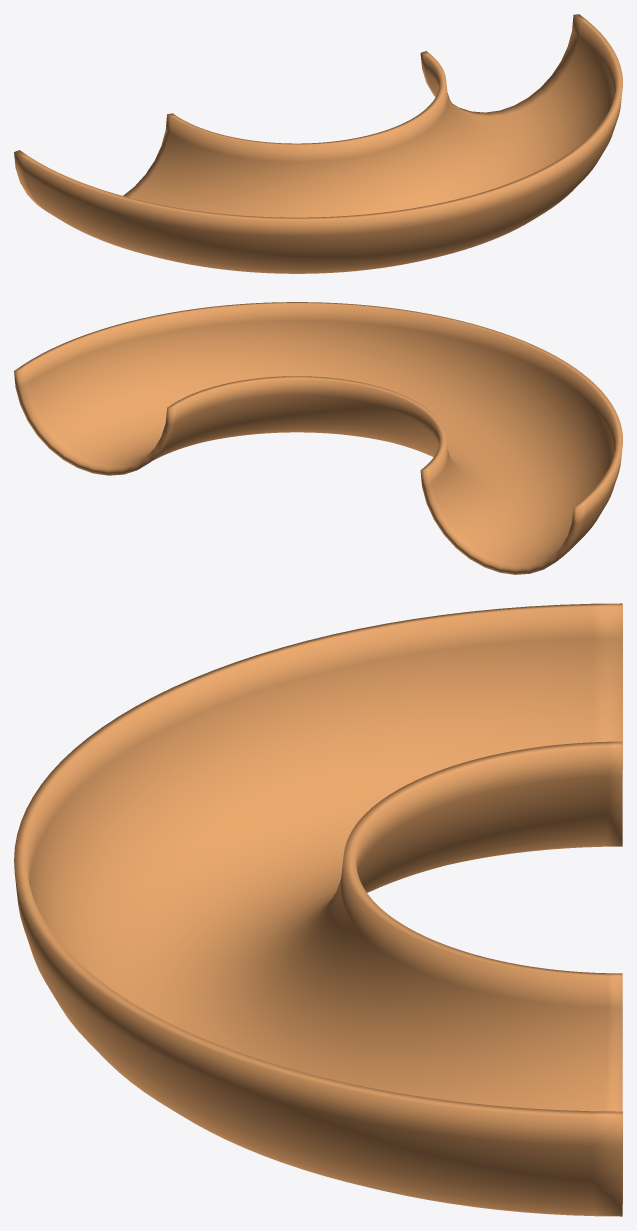
Rendered from WAY CURVE.fbx.
The picture shows the model from 3 angles, top to bottom: view 1: azimuth 30°, elevation 25°; view 2: azimuth 150°, elevation 25°; view 3: azimuth 270°, elevation 25°; orthographic projection. The views are drawn at different scales.
Visible parts, largest first — view 1: BezierCircle; view 2: BezierCircle; view 3: BezierCircle.
Boxes of the visible parts, box(x1,y1,x2,y2) form: BezierCircle: box(14, 14, 622, 273); BezierCircle: box(14, 302, 622, 574); BezierCircle: box(14, 603, 622, 1216).
Bounding box in the file's own units: 3360 × 475 × 1681.
